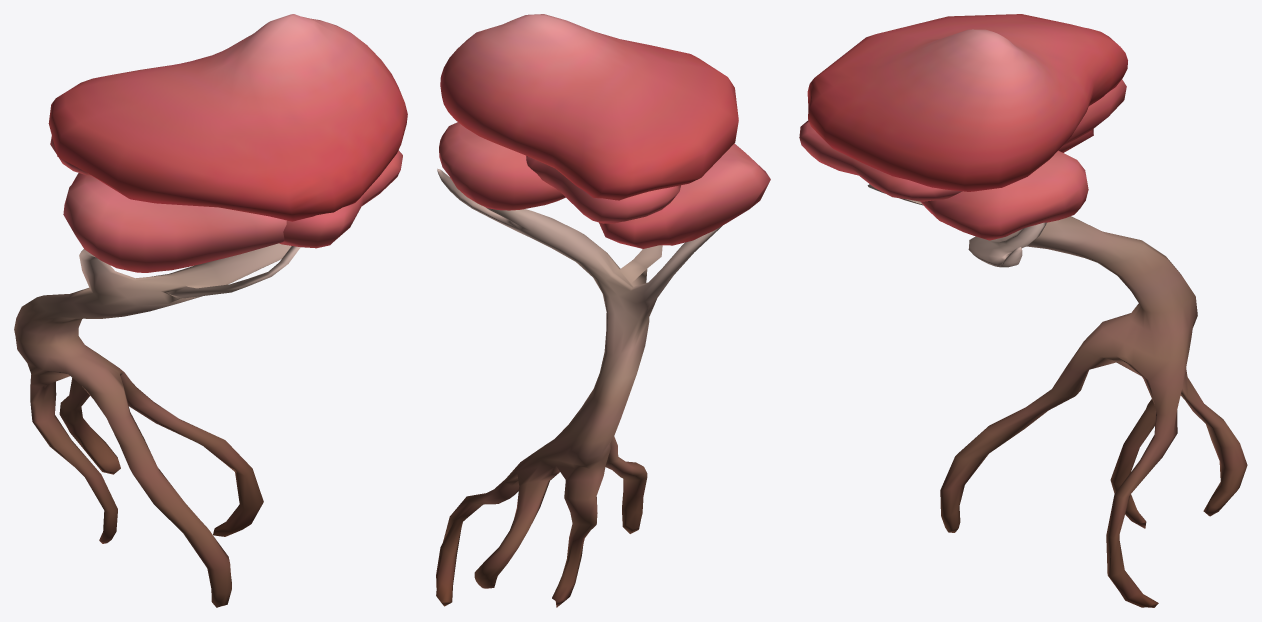
File: Tree2.fbx
3 views of the same model, side by side, from view 1: azimuth 30°, elevation 25°; view 2: azimuth 150°, elevation 25°; view 3: azimuth 270°, elevation 25° (orthographic). The views are drawn at different scales.
Parts seen in each view (by area): view 1: Tree2; view 2: Tree2; view 3: Tree2.
Boxes of the visible parts, bbox=[...] form: Tree2: bbox=[14, 14, 407, 607]; Tree2: bbox=[436, 14, 770, 607]; Tree2: bbox=[799, 14, 1247, 607].
Size of the model in its own units: 927 by 1556 by 1113.
Materials: 1 (1 with a texture image).
